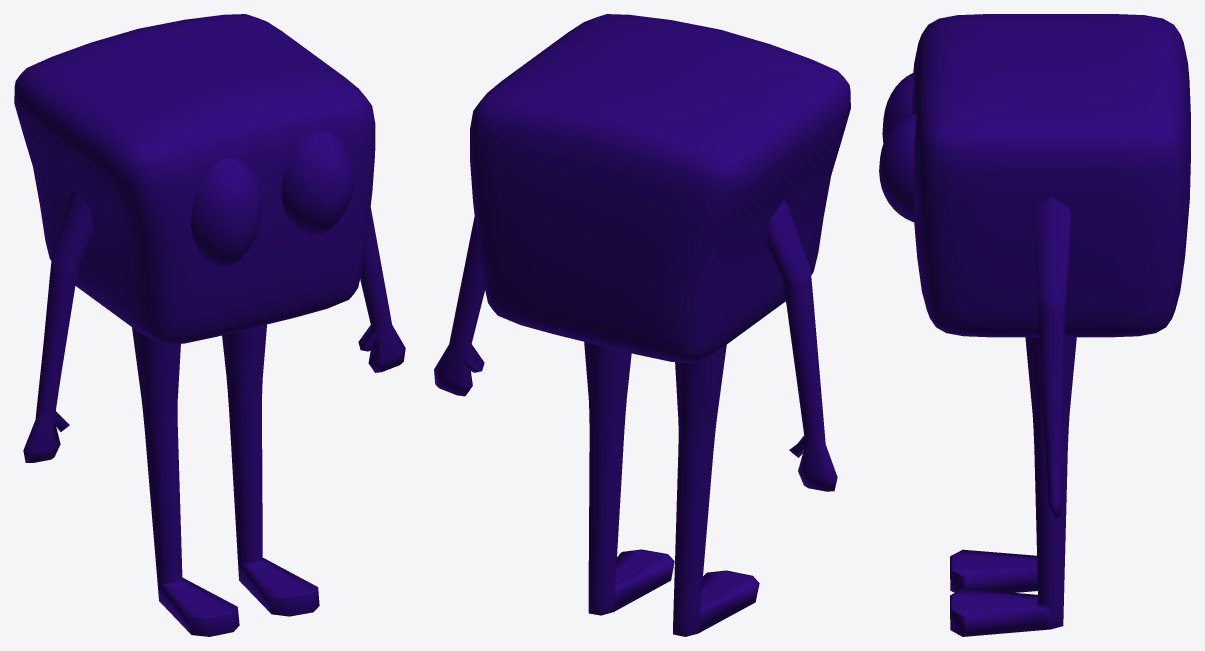
The model's file is vertusher_01.fbx.
The picture shows the model from 3 angles, left to right: view 1: azimuth 30°, elevation 25°; view 2: azimuth 150°, elevation 25°; view 3: azimuth 270°, elevation 25°; orthographic projection. The views are drawn at different scales.
Parts seen in each view (by area): view 1: LP_pCylinder7; view 2: LP_pCylinder7; view 3: LP_pCylinder7.
Part boxes in pixels (box(x1,y1,x2,y2)): LP_pCylinder7: box(14, 14, 405, 636); LP_pCylinder7: box(434, 14, 850, 636); LP_pCylinder7: box(879, 14, 1190, 636).
Size of the model in its own units: 38.73 by 51.3 by 26.83.
